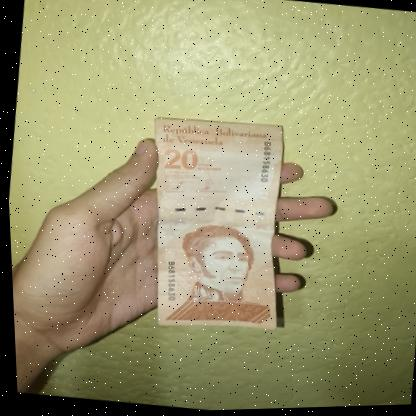twenty-front-vef: (128, 111, 298, 341)
